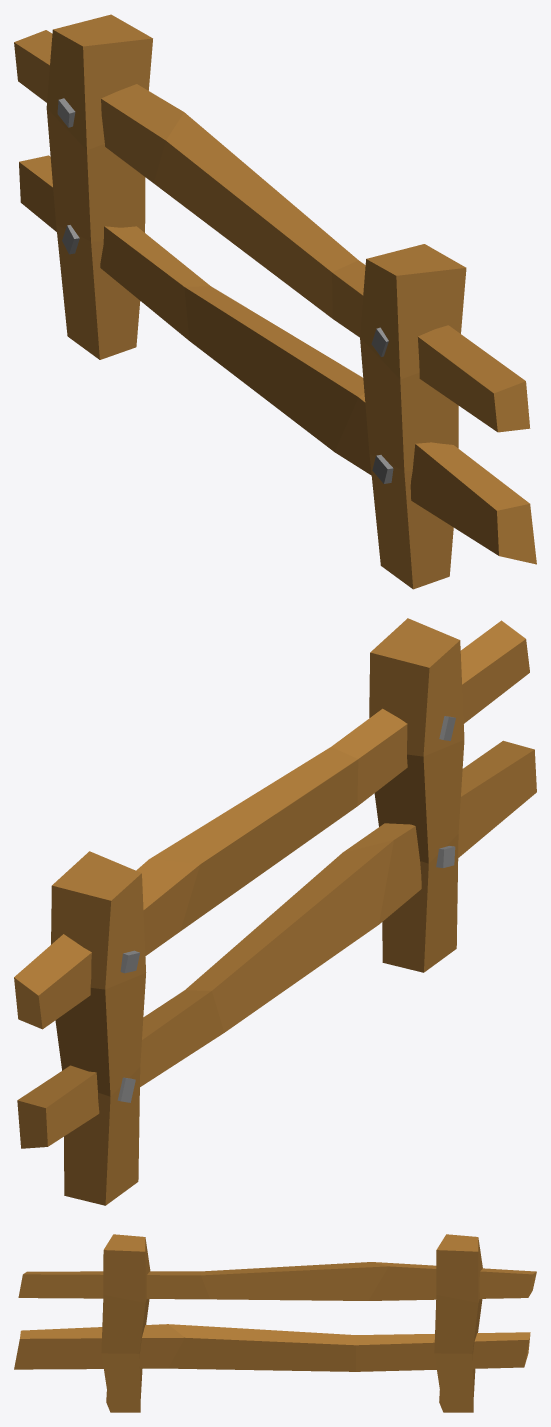
The model's file is Barrière_02.fbx.
3 renders of one model, top to bottom at view 1: azimuth 30°, elevation 25°; view 2: azimuth 150°, elevation 25°; view 3: azimuth 270°, elevation 25°, orthographic. The views are drawn at different scales.
Parts seen in each view (by area): view 1: Barrière_02; view 2: Barrière_02; view 3: Barrière_02.
Boxes of the visible parts, x1,y1,x2,y2 form: Barrière_02: (14,14,536,589); Barrière_02: (14,618,536,1205); Barrière_02: (14,1234,536,1412).
Size of the model in its own units: 32.18 by 143 by 411.
1 material, 1 textured.
